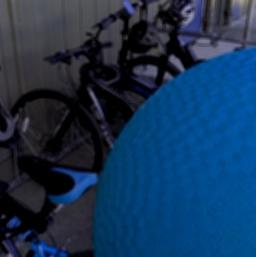algae: (90, 39, 256, 257)
